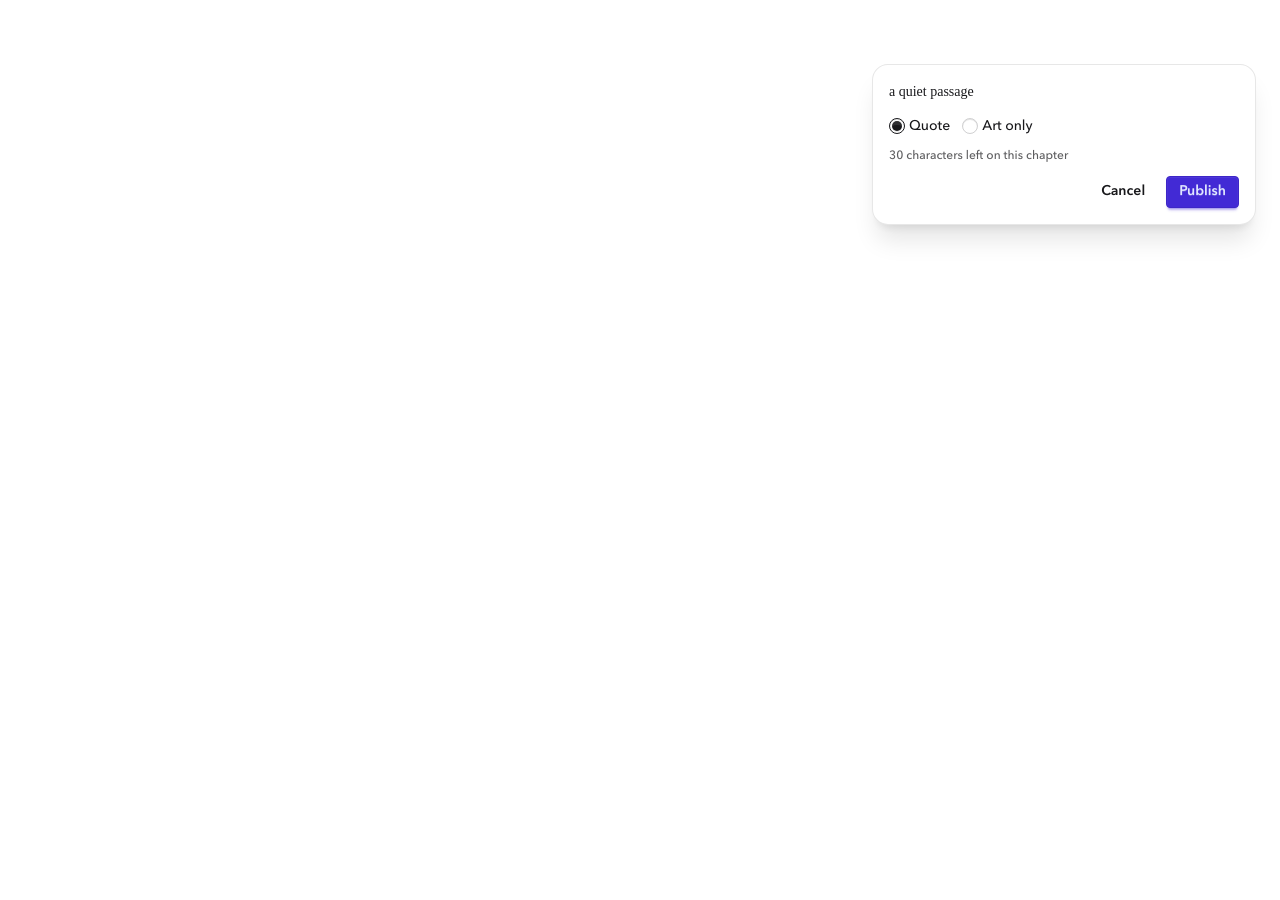
Scenario: PublishSheet › shows the copy for publish_limit
Click the button "Publish": (1203, 192) [1166,176,1239,208]
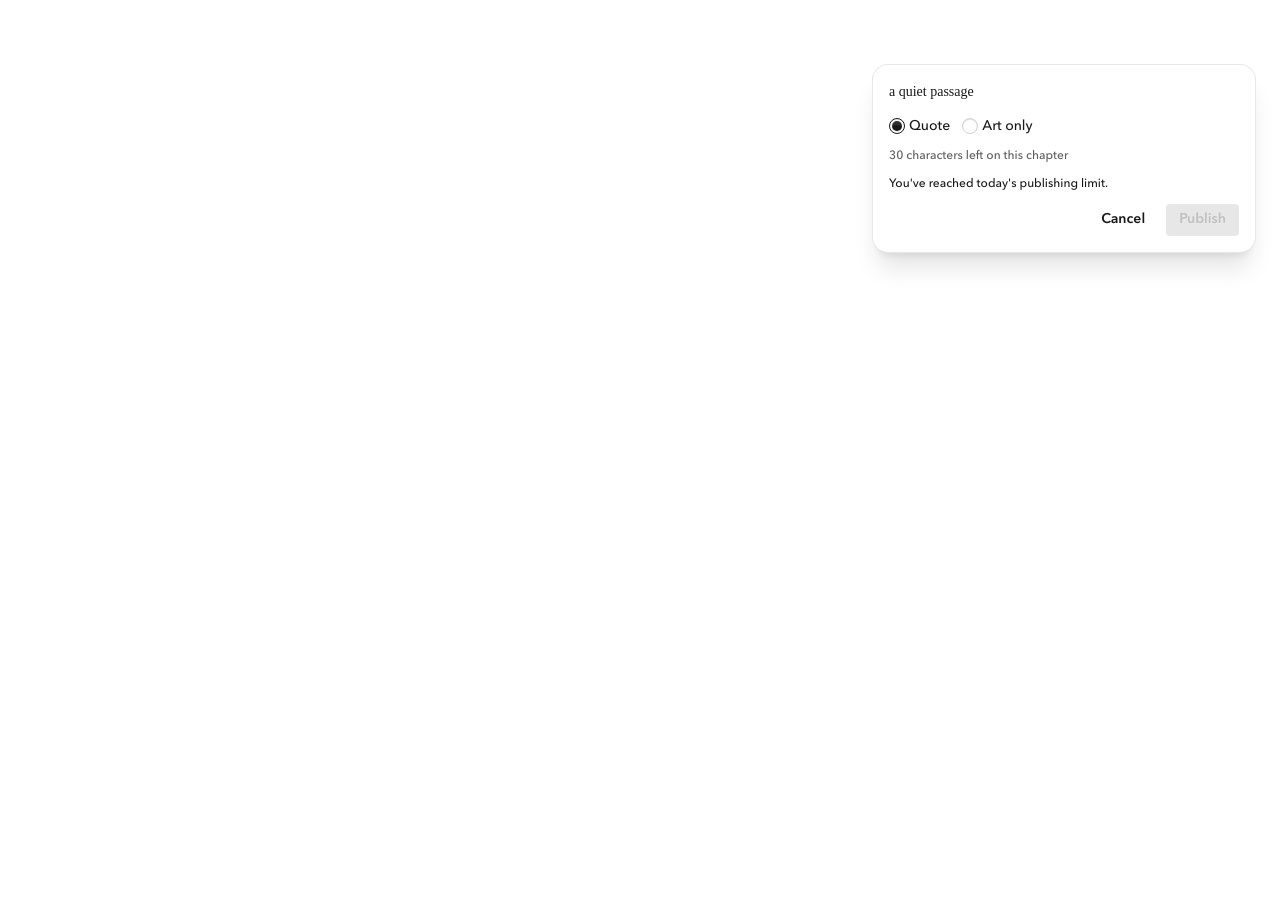
Expected: the text "You've reached today's publishing limit." is shown, [889,178,1108,190]
